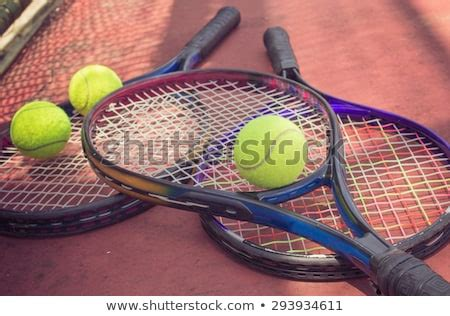tennis_ball: (234, 114, 306, 189), (10, 100, 71, 160), (68, 64, 124, 116)
